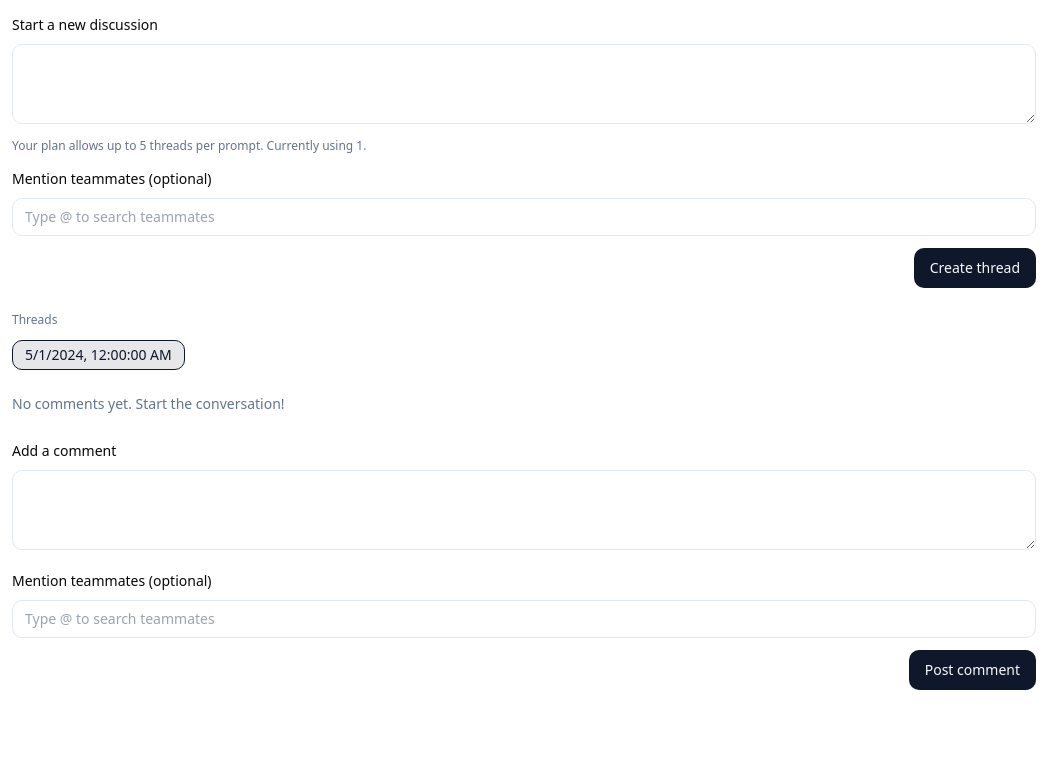
it: PromptCommentsPanel - thread creation › validates that the thread description is required
Click the button "Create thread" at (975, 268), box [914,248,1036,288]
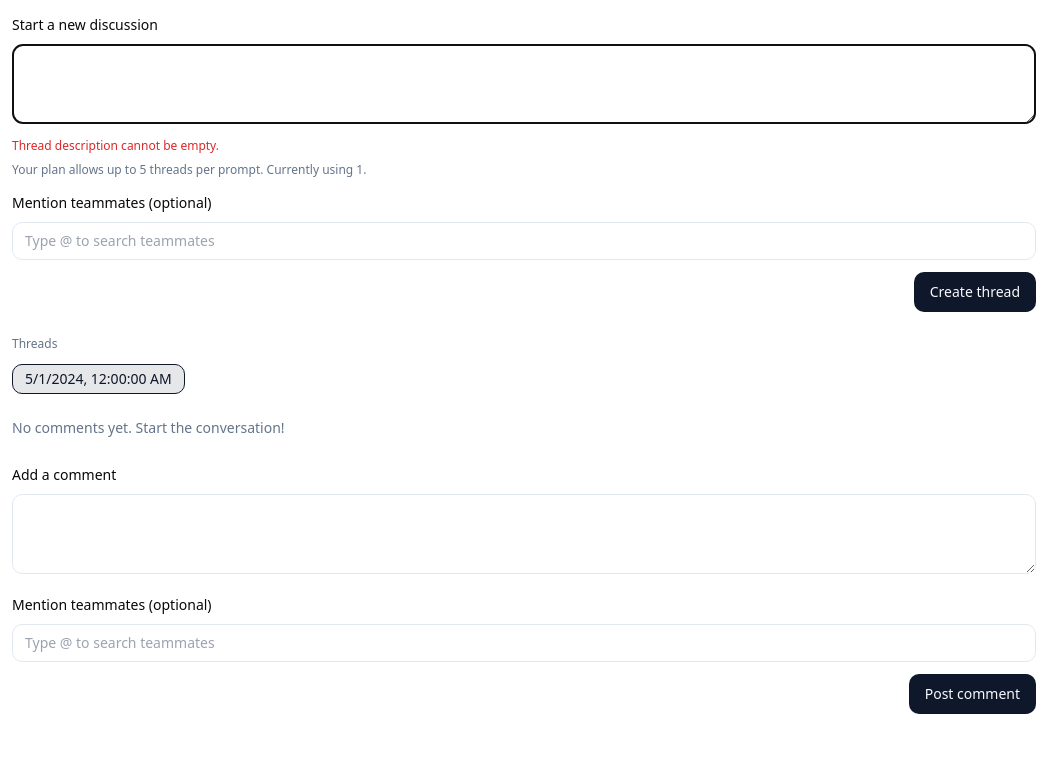
Now the text "Thread description cannot be empty." is shown, box [12,137,219,154]
